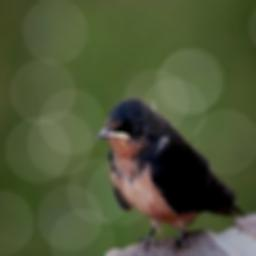Swallow: (95, 95, 244, 254)
